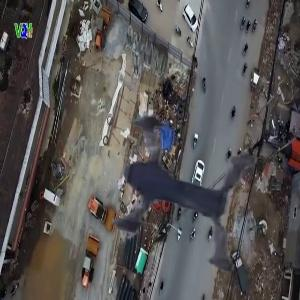drone: (72, 87, 283, 298)
